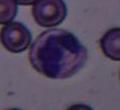N: (28, 28, 89, 80)
